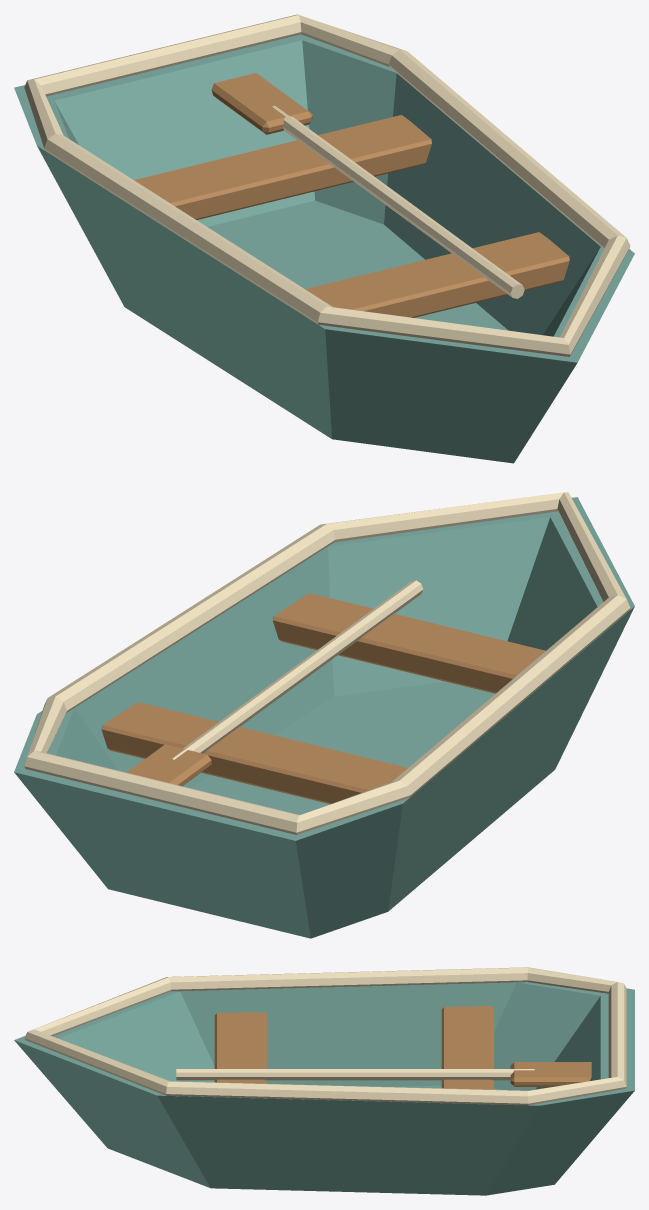
3 renders of one model, top to bottom at view 1: azimuth 30°, elevation 25°; view 2: azimuth 150°, elevation 25°; view 3: azimuth 270°, elevation 25°, orthographic. The views are drawn at different scales.
Visible parts, largest first — view 1: transport-work-skiff-01; view 2: transport-work-skiff-01; view 3: transport-work-skiff-01.
Boxes of the visible parts, x1,y1,x2,y2 form: transport-work-skiff-01: (14, 14, 634, 463); transport-work-skiff-01: (14, 492, 634, 938); transport-work-skiff-01: (14, 967, 634, 1195).
Bounding box in the file's own units: 1.3 × 0.55 × 2.6.
